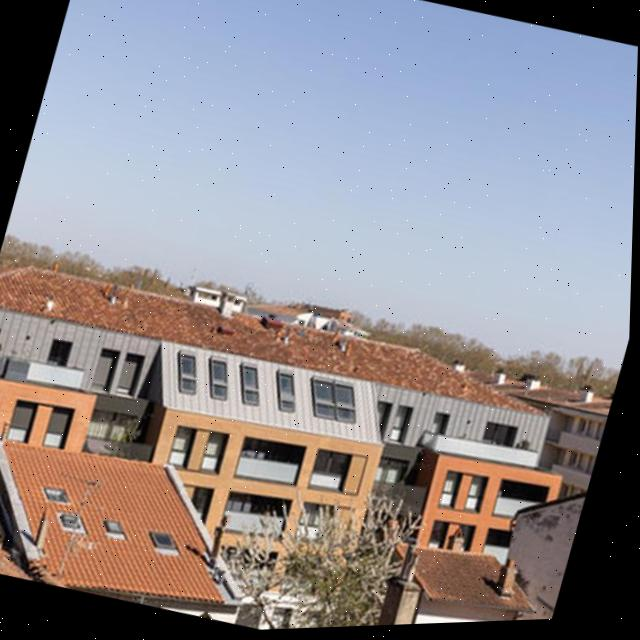building: (0, 235, 599, 592), (0, 400, 280, 634), (367, 522, 506, 626)
